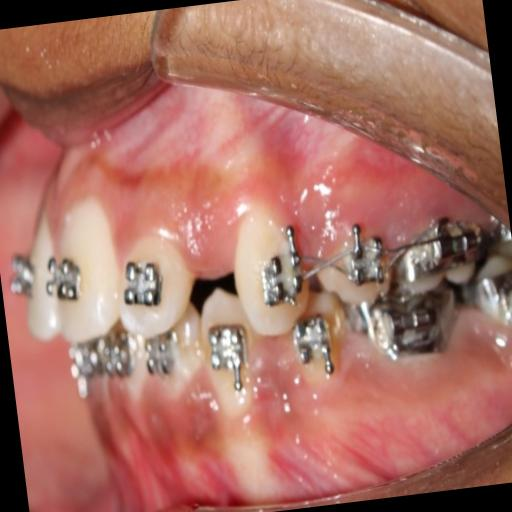correct_brace: (312, 222, 392, 316), (258, 242, 306, 315), (42, 250, 87, 312), (122, 254, 164, 310)
incorrect_brace: (110, 224, 200, 334), (336, 226, 390, 294)
